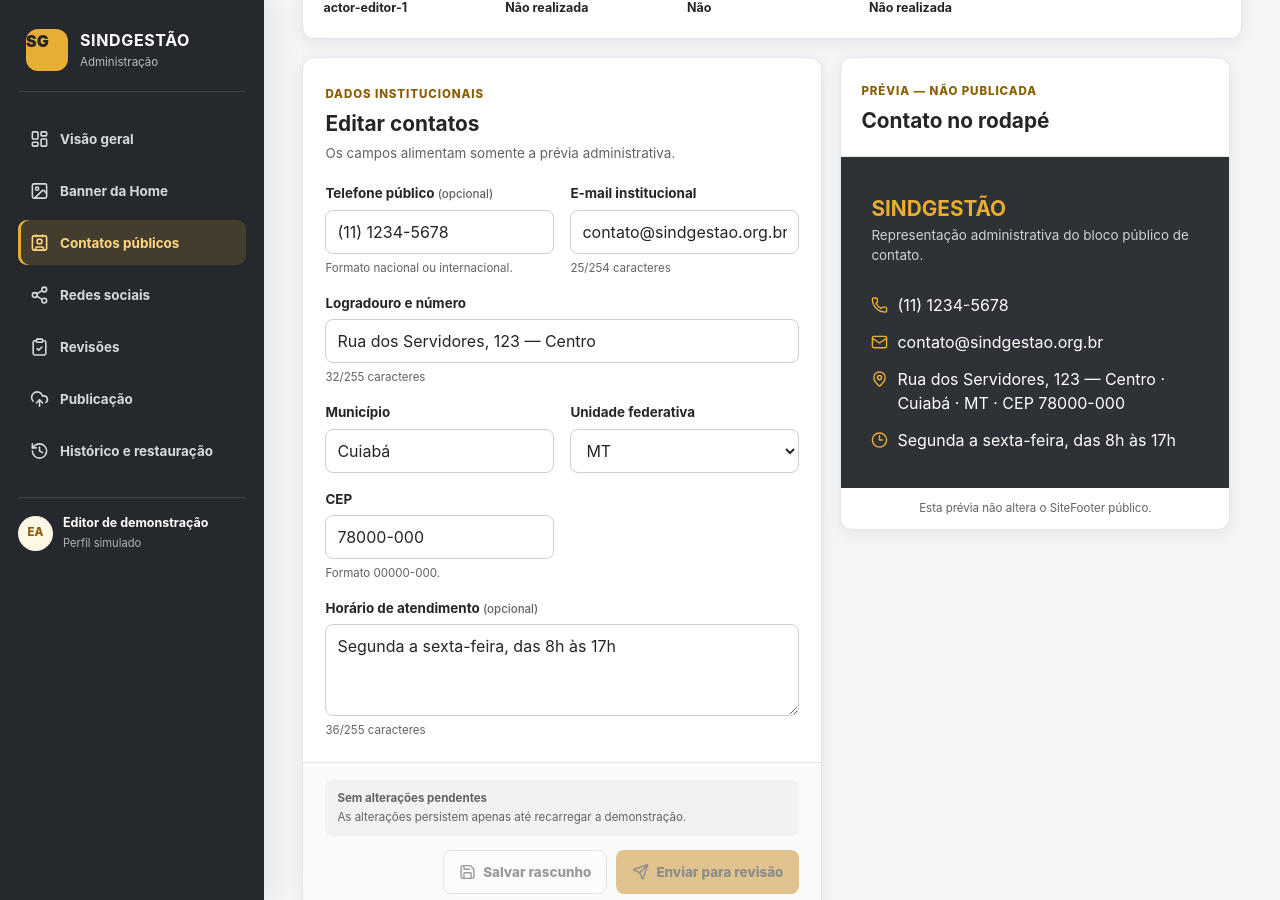
Test: F2.2B contacts editor › shows unsaved changes and clears them after save
(page scrolled)
Step 1. Type " Centro" into the field labelled "Município" → (440, 451), box [325,429,554,473]
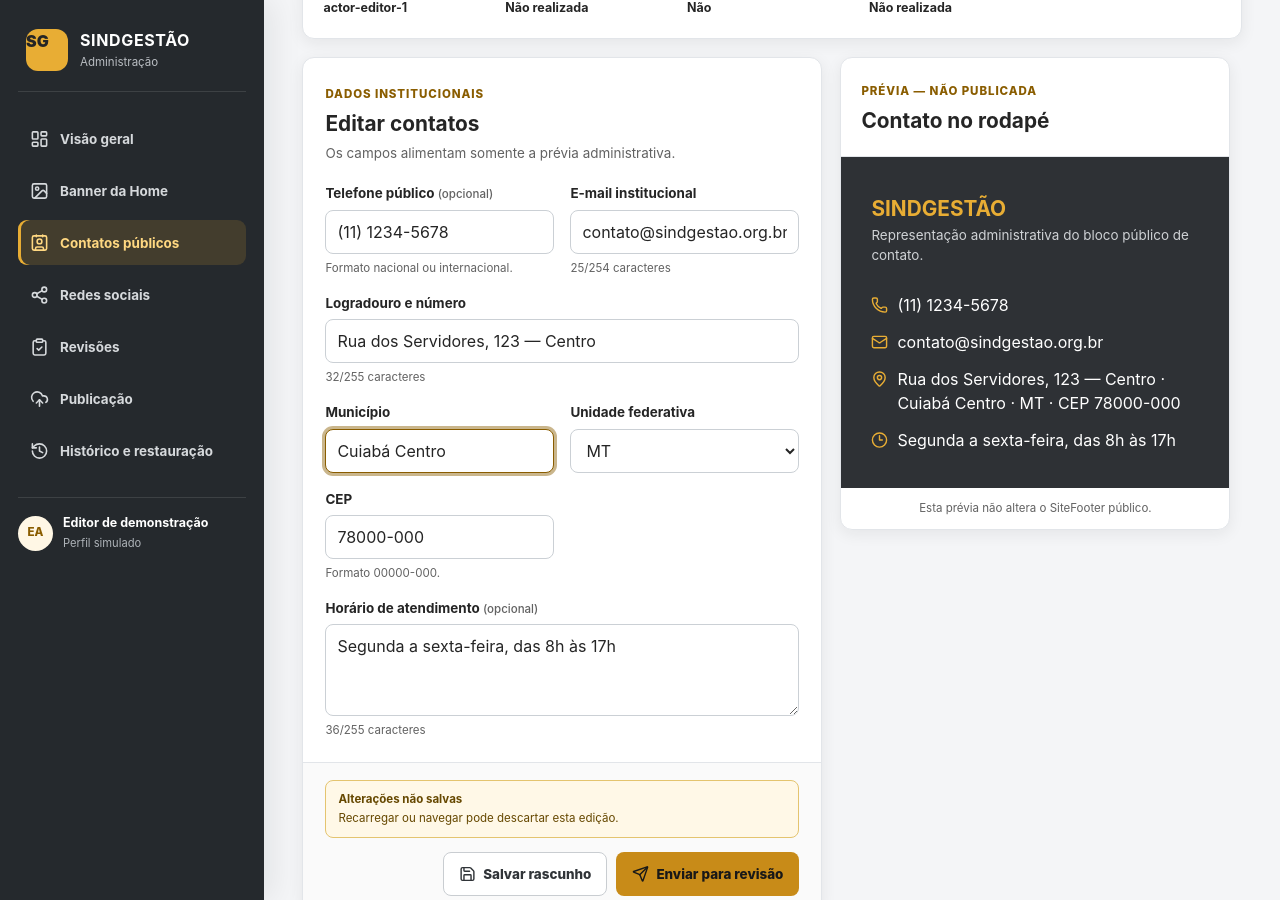
Now the text "Alterações não salvas" is shown, box [338,792,462,806]
Step 2. Click the button "Salvar rascunho" → (525, 874), box [443,852,607,896]
(page scrolled)
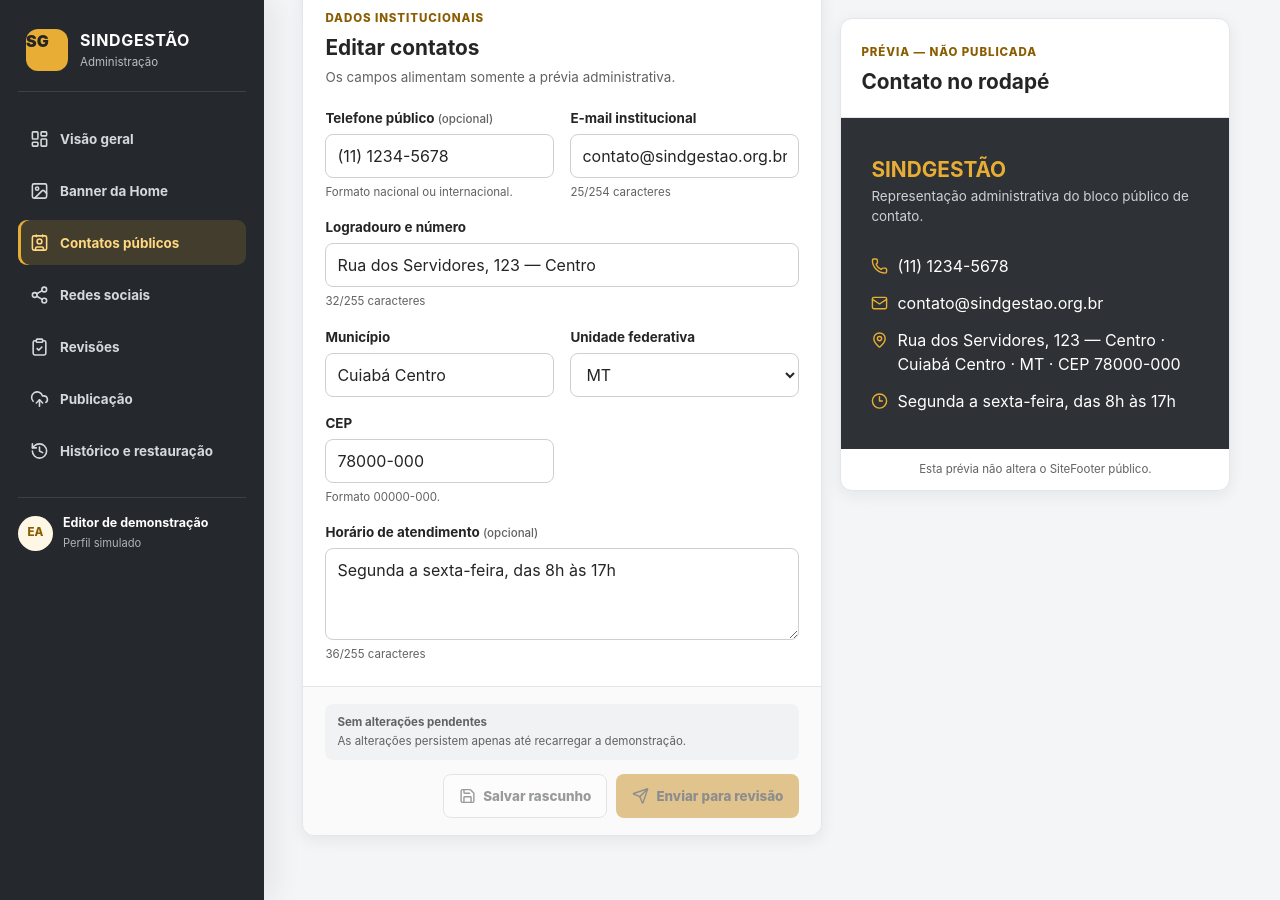
Now the text "Sem alterações pendentes" is shown, box [337,715,487,729]
